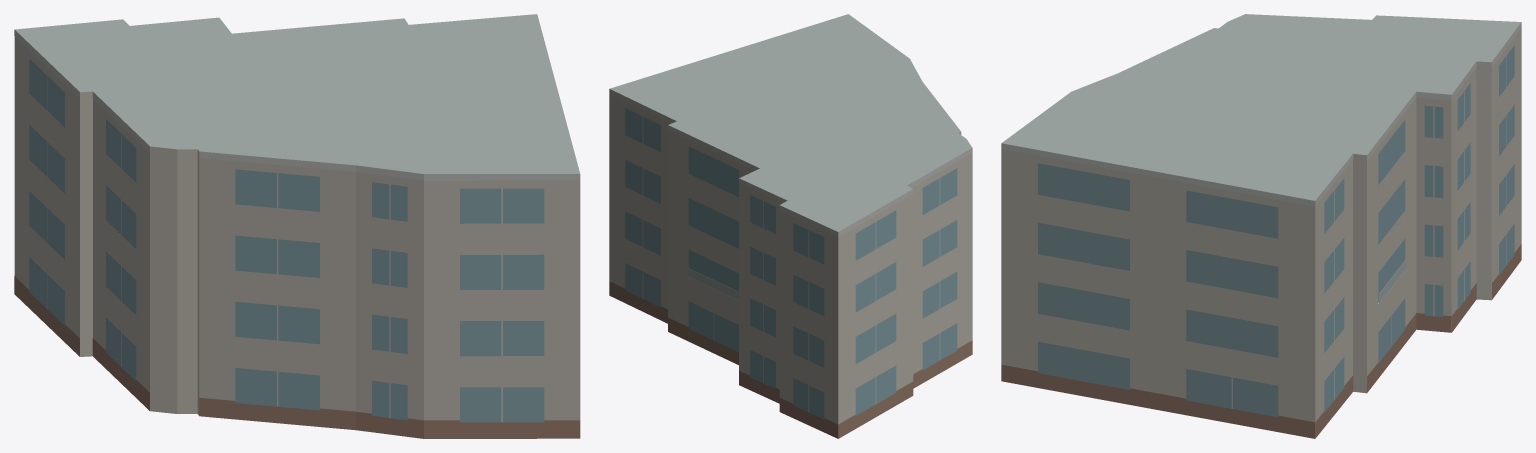
Rendered from survey-upis-32656003.glb.
3 views of the same model, side by side, from view 1: azimuth 30°, elevation 25°; view 2: azimuth 150°, elevation 25°; view 3: azimuth 270°, elevation 25° (orthographic). The views are drawn at different scales.
Parts seen in each view (by area): view 1: survey-upis-32656003.tmp; view 2: survey-upis-32656003.tmp; view 3: survey-upis-32656003.tmp.
Part boxes in pixels (left/top/right/bottom): survey-upis-32656003.tmp: left=14, top=14, right=580, bottom=438; survey-upis-32656003.tmp: left=609, top=14, right=972, bottom=438; survey-upis-32656003.tmp: left=1001, top=14, right=1521, bottom=438.
Size of the model in its own units: 16.85 by 10 by 19.82.
